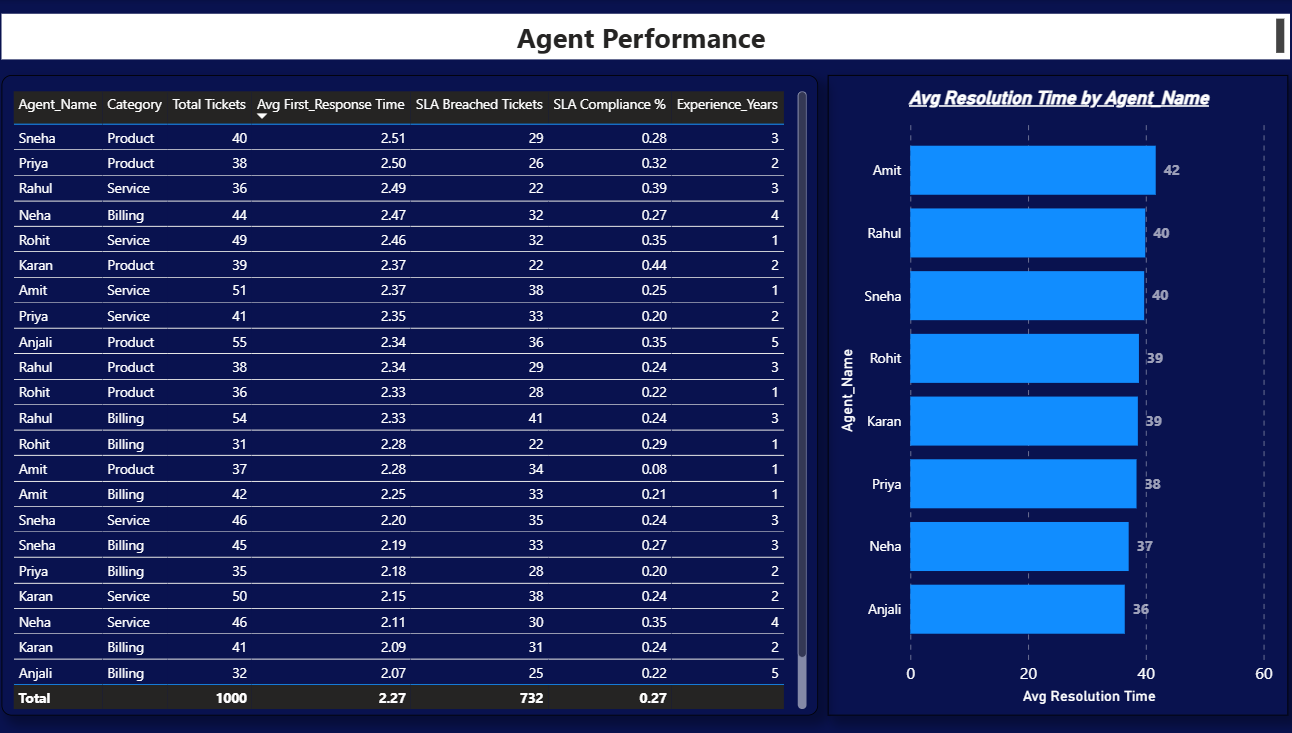

The dashboard page shown, as its layout file describes it:
{"tool":"powerbi","page":{"name":"Agent Performance","canvas":[1280,720],"ordinal":2},"visuals":[{"type":"textbox","box":[7.8,13.3,1264.4,44.4],"z":0},{"type":"tableEx","fields":{"Values":["Agent_Data.Agent_Name","Complaints_Data.Category","Complaints_Data.Total Tickets","Resolution_Data.Avg First_Response Time","Resolution_Data.SLA Breached Tickets","Resolution_Data.SLA Compliance %","Agent_Data.Experience_Years"]},"box":[7.2,73.9,801.4,629],"z":1000},{"type":"barChart","fields":{"Category":["Agent_Data.Agent_Name"],"Y":["Resolution_Data.Avg Resolution Time"]},"box":[818.8,73.9,452.2,629],"z":2000}]}

Visuals, with their boxes in screenshot pixels (x1, y1, x2, y2), scaled from the page's 1280x720 canvas onto the 1292x733 screenshot:
textbox: {"left": 8, "top": 14, "right": 1284, "bottom": 59}
tableEx - Agent_Data.Agent_Name x Complaints_Data.Category: {"left": 7, "top": 75, "right": 816, "bottom": 716}
barChart - Agent_Data.Agent_Name x Resolution_Data.Avg Resolution Time: {"left": 826, "top": 75, "right": 1283, "bottom": 716}
